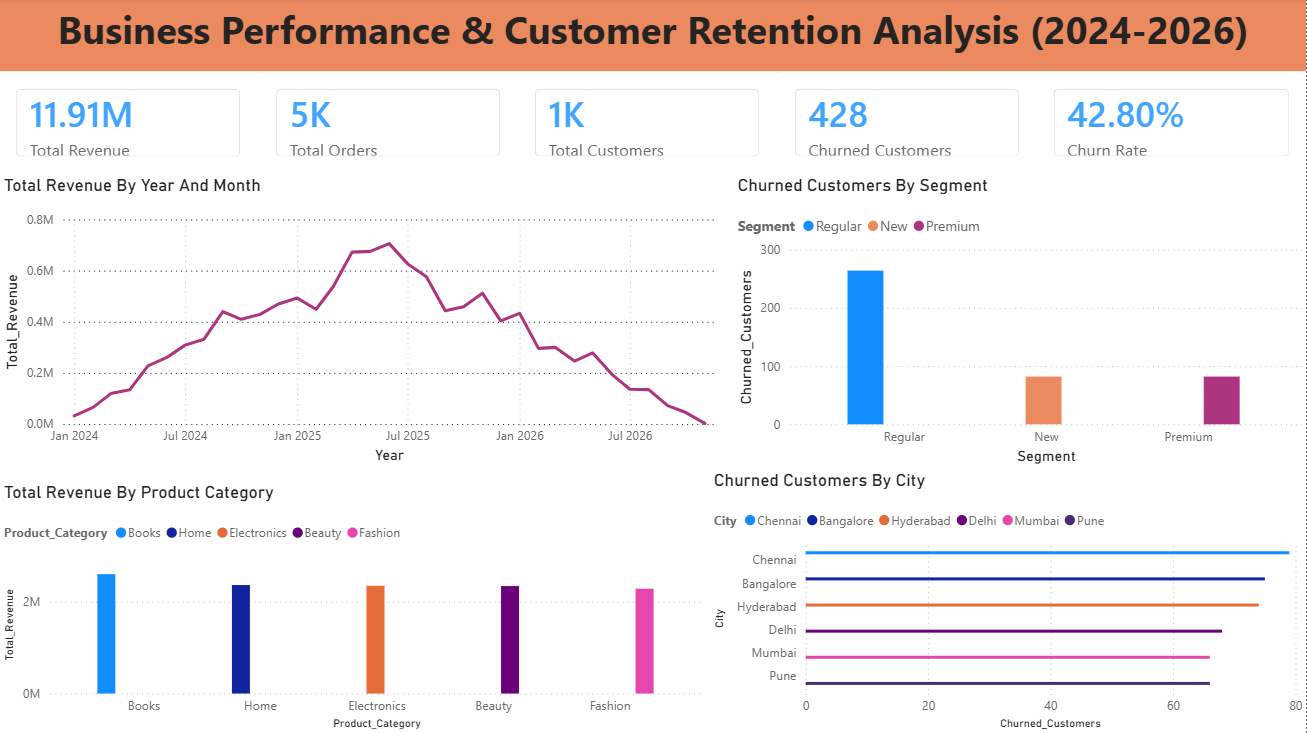

The page's visual inventory and layout, read from the dashboard file:
{"tool":"powerbi","page":{"name":"Page 1","canvas":[1280,720],"ordinal":0},"visuals":[{"type":"textbox","box":[0,0,1280.3,72.7],"z":0},{"type":"cardVisual","fields":{"Data":["customers.total_customers"]},"box":[507.7,72.7,253.9,100.2],"z":1000},{"type":"cardVisual","fields":{"Data":["orders.total_orders"]},"box":[253.9,72.7,253.9,100.2],"z":2000},{"type":"cardVisual","fields":{"Data":["customer_churn.churned_customers"]},"box":[761.6,72.7,253.9,100.2],"z":3000},{"type":"cardVisual","fields":{"Data":["customer_churn.churn_rate"]},"box":[1015.4,72.7,264.8,100.2],"z":4000},{"type":"cardVisual","fields":{"Data":["orders.total_revenue"]},"box":[0,72.7,253.9,100.2],"z":5000},{"type":"lineChart","title":"Total Revenue By Year And Month","fields":{"Y":["orders.total_revenue"],"Category":["orders.order_date.Variation.Date Hierarchy.Year","orders.order_date.Variation.Date Hierarchy.Month"]},"box":[0,172.9,717.7,288.2],"z":6000},{"type":"clusteredColumnChart","title":"Total Revenue By Product Category","fields":{"Category":["orders.product_category"],"Series":["orders.product_category"],"Y":["orders.total_revenue"]},"box":[0,473.4,694.3,247],"z":7000},{"type":"clusteredColumnChart","title":"Churned Customers By Segment","fields":{"Category":["customers.segment"],"Y":["customer_churn.churned_customers"],"Series":["customers.segment"]},"box":[717.7,172.9,562.6,288.2],"z":8000},{"type":"clusteredBarChart","title":"Churned Customers By City ","fields":{"Y":["customer_churn.churned_customers"],"Series":["customers.city"],"Category":["customers.city"]},"box":[694.3,461.1,585.9,259.3],"z":9000}]}

Visuals, with their boxes in screenshot pixels (x1, y1, x2, y2), scaled from the page's 1280x720 canvas onto the 1307x733 screenshot:
textbox: region(0, 0, 1306, 74)
cardVisual - customers.total_customers: region(518, 74, 778, 176)
cardVisual - orders.total_orders: region(259, 74, 519, 176)
cardVisual - customer_churn.churned_customers: region(778, 74, 1037, 176)
cardVisual - customer_churn.churn_rate: region(1037, 74, 1306, 176)
cardVisual - orders.total_revenue: region(0, 74, 259, 176)
"Total Revenue By Year And Month" lineChart: region(0, 176, 733, 469)
"Total Revenue By Product Category" clusteredColumnChart: region(0, 482, 709, 732)
"Churned Customers By Segment" clusteredColumnChart: region(733, 176, 1306, 469)
"Churned Customers By City " clusteredBarChart: region(709, 469, 1306, 732)
